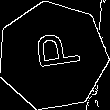P_W: (25, 33, 81, 78)
